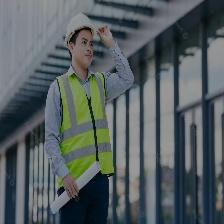Person: (44, 12, 136, 224)
helmet: (65, 12, 99, 51)
vest: (55, 71, 115, 193)
